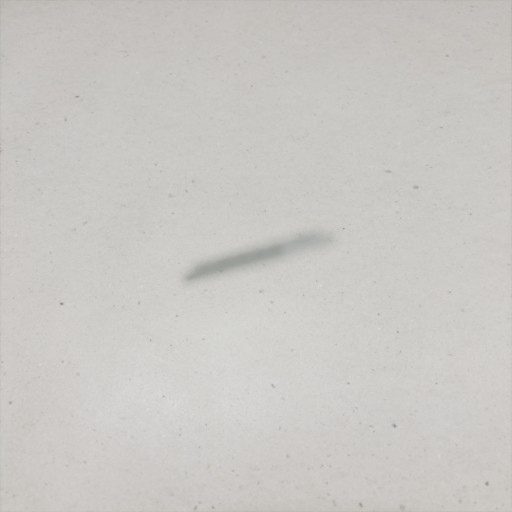lego: (181, 228, 338, 285)
